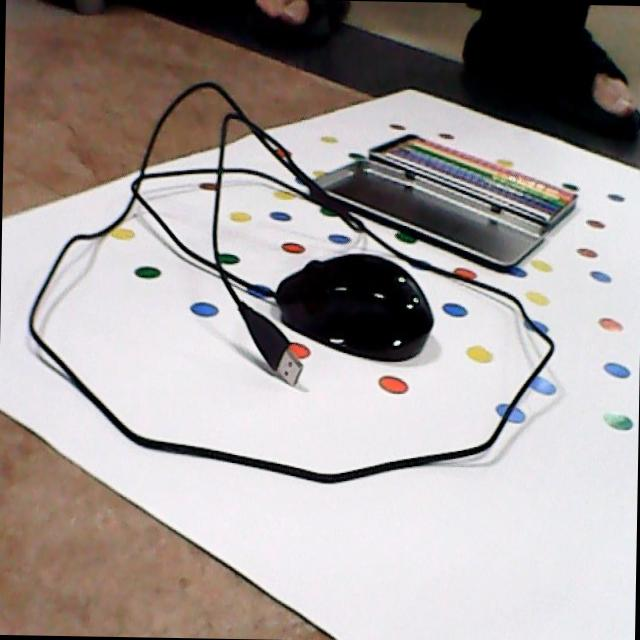color: (363, 127, 587, 241)
mouse: (267, 250, 438, 369)
